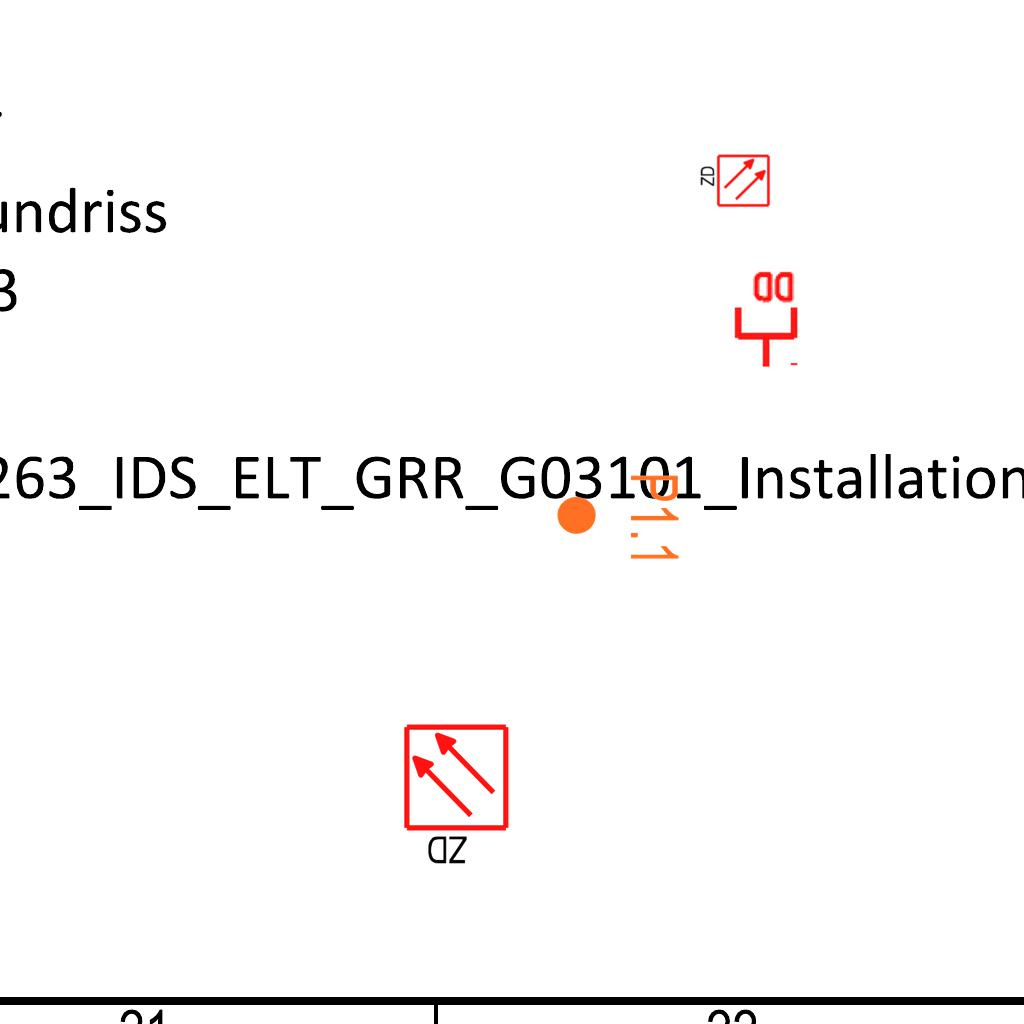Datenanschluss_zweifach: (730, 267, 799, 370)
Downlight_LED_Einbauleuchten_Flur: (554, 472, 682, 565)
ZD_Melder_in_Zwischendecke_mit_Revisionsoeffnung_mind_40_x_40_cm: (401, 722, 515, 871), (697, 153, 771, 210)
